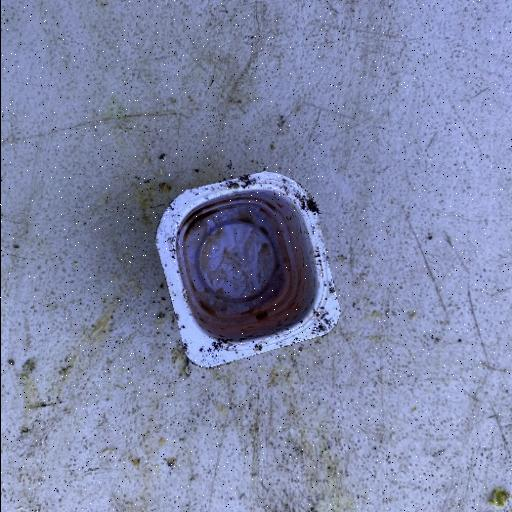Plastic: (154, 168, 342, 368)
